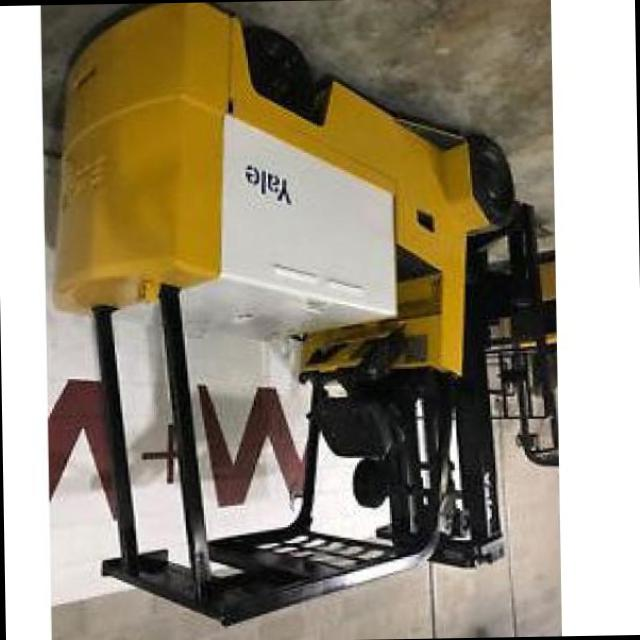forklift: (85, 58, 540, 631)
